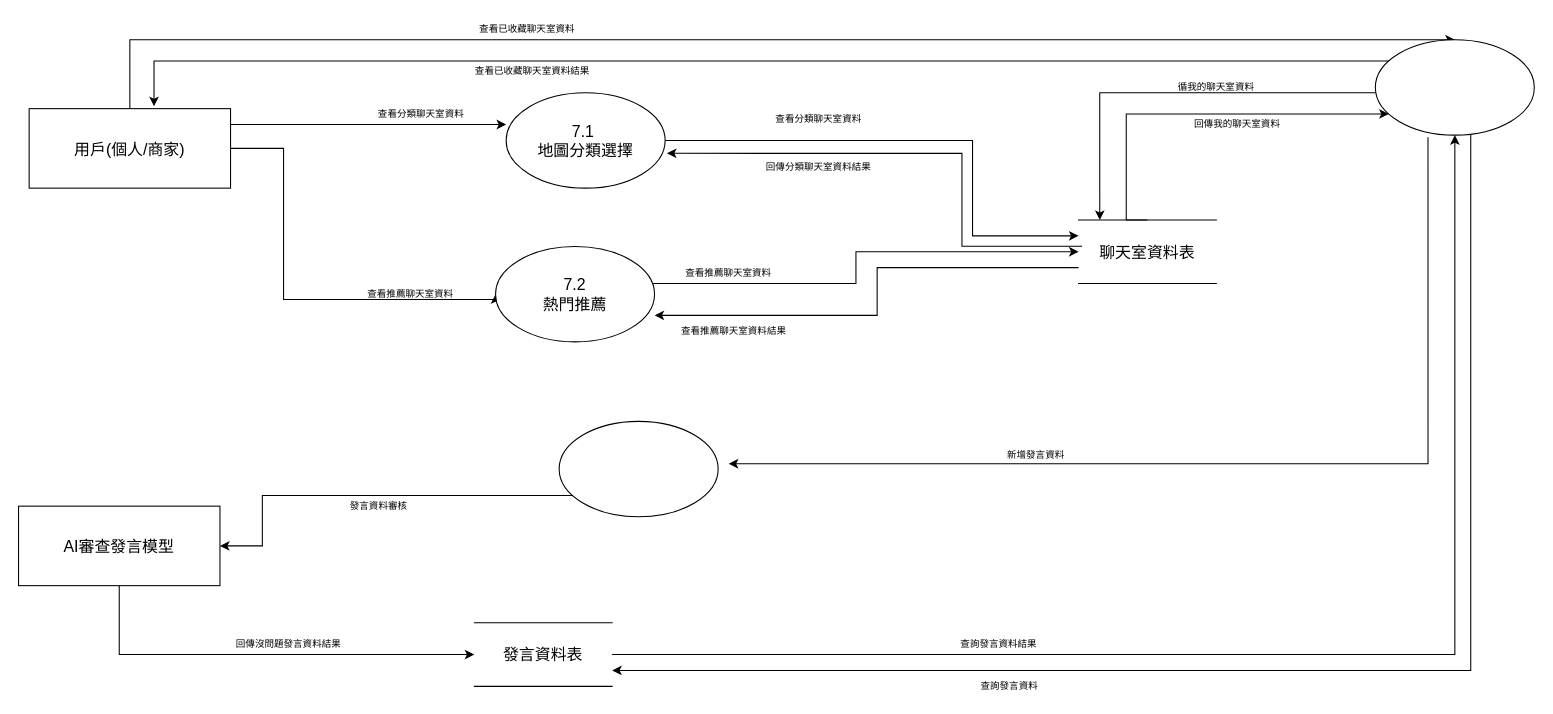
Some shapes in this 1553 by 714 pixel diagram are drawn without their labels. Each missing label, with the centre of its shape:
"7.3 發言審查" belongs at point 638,468.
"7.4 我的聊天室" belongs at point 1454,87.
